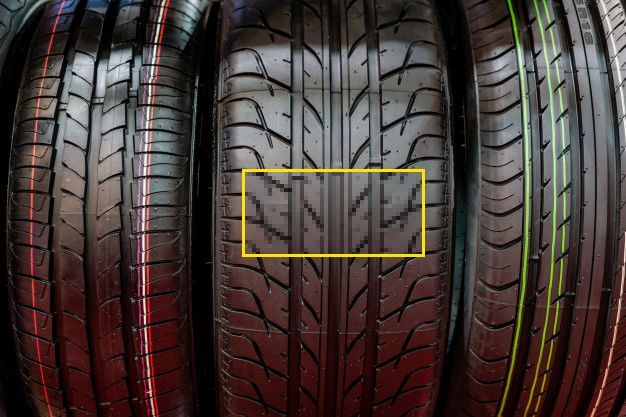new_condition: (9, 1, 190, 417), (463, 1, 626, 408)
